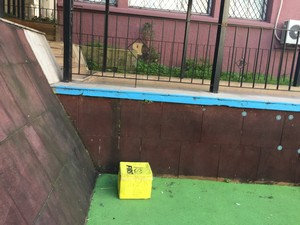cube: (117, 161, 153, 199)
